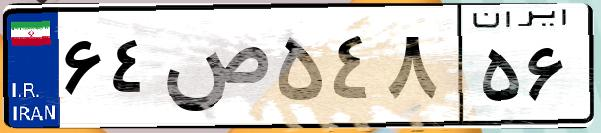4: (330, 28, 385, 110), (110, 28, 158, 98)
5: (270, 28, 330, 110), (475, 38, 525, 113)
6: (57, 26, 110, 100), (525, 38, 570, 115)
8: (385, 28, 445, 110)
ص: (158, 20, 270, 120)
